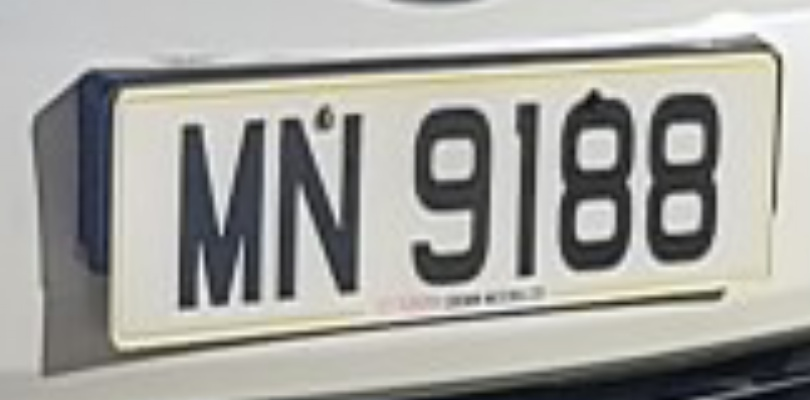1: (495, 68, 556, 307)
8: (636, 55, 742, 293), (551, 62, 648, 298)
9: (398, 78, 505, 307)
M: (148, 85, 282, 343)
N: (264, 81, 378, 339)
